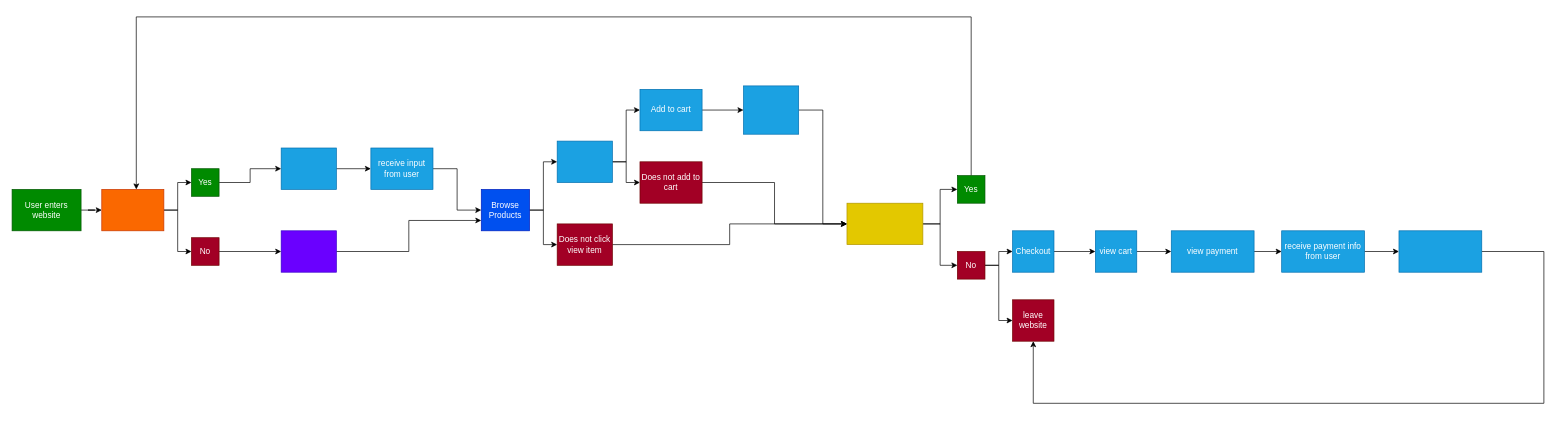
The diagram is 1561 pixels wide and 421 high, and some of its shapes have lost their labels. Here are the shapes that lost their labels. From the top down, the centre of each, then its label:
point (771, 109): Receive "added to cart" notification
point (308, 168): Search for product
point (584, 161): Users clicks to view item
point (132, 210): User knows product they want
point (884, 224): Continue shopping/browsing
point (308, 251): Explore website
point (1440, 251): confirmation screen and send email
